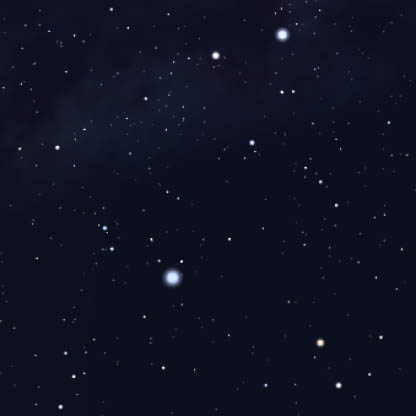Lyra: (162, 266, 184, 289), (92, 220, 112, 235), (140, 231, 156, 247), (103, 241, 118, 258), (150, 252, 165, 269), (175, 252, 189, 267)
